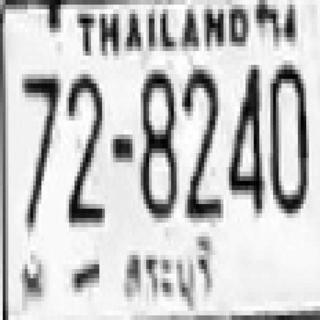N00: (268, 60, 306, 209)
N02: (182, 65, 218, 218), (66, 70, 102, 222)
N04: (226, 60, 262, 209)
N07: (19, 70, 58, 227), (19, 70, 58, 181)
N08: (139, 65, 175, 214)
P60: (117, 237, 215, 306)
